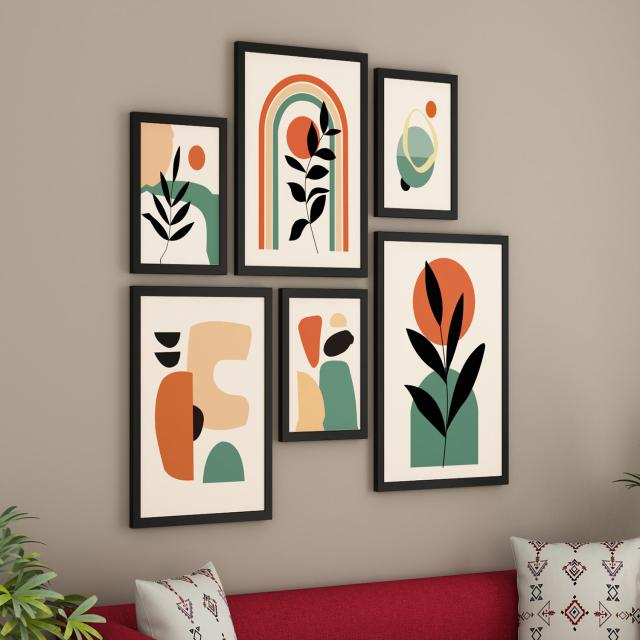painting: (377, 232, 511, 491), (134, 286, 274, 525), (237, 40, 368, 276), (135, 112, 227, 275), (282, 289, 368, 442), (378, 68, 458, 217)
